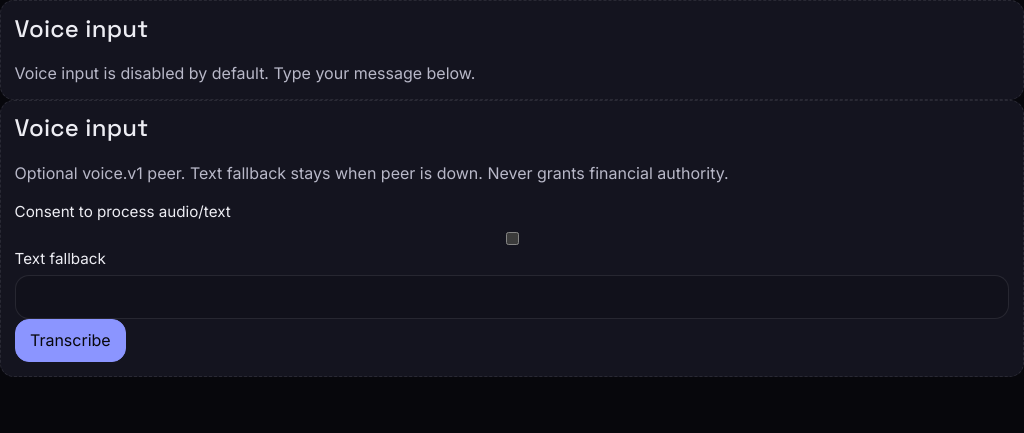
Test: standalone browser checks › voice slot disabled by default; enabled peer labels evidence_mode
Later steps or results of the test are not shown.
Expected: the element with test id "voice-slot" shows "disabled by default", [15,63,475,83]
Click the checkbox at x=512, y=238, box [19,232,1006,245]
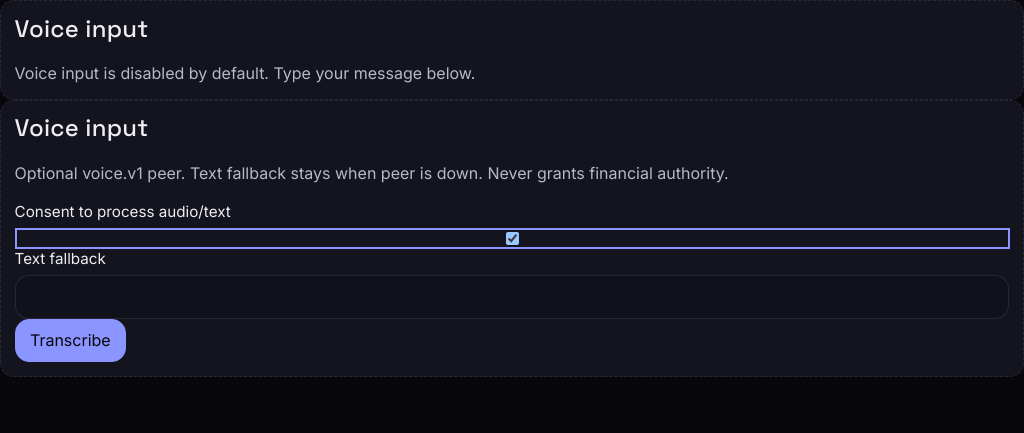
Type "paid twice" into the field named "Voice text fallback" at x=512, y=297, box [15,275,1009,319]
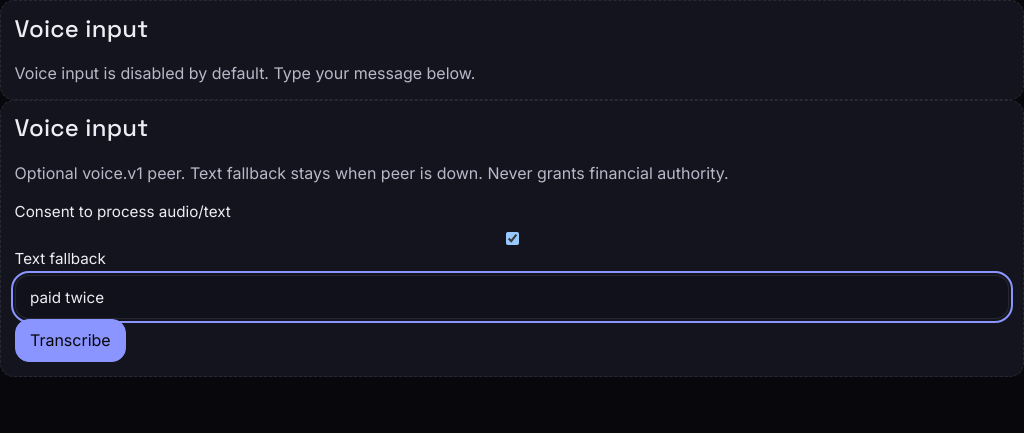
Click the button "Transcribe" at x=70, y=341, box [15,319,126,362]
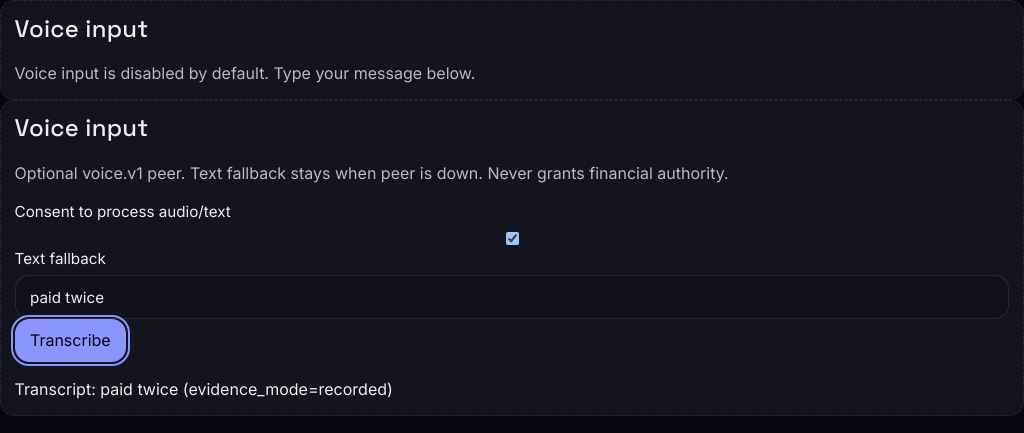
Expected: the message with test id "voice-slot-result" shows "paid twice", [100,379,178,399]
Expected: the text with test id "voice-evidence-mode" shows "evidence_mode=recorded", [183,379,393,399]
